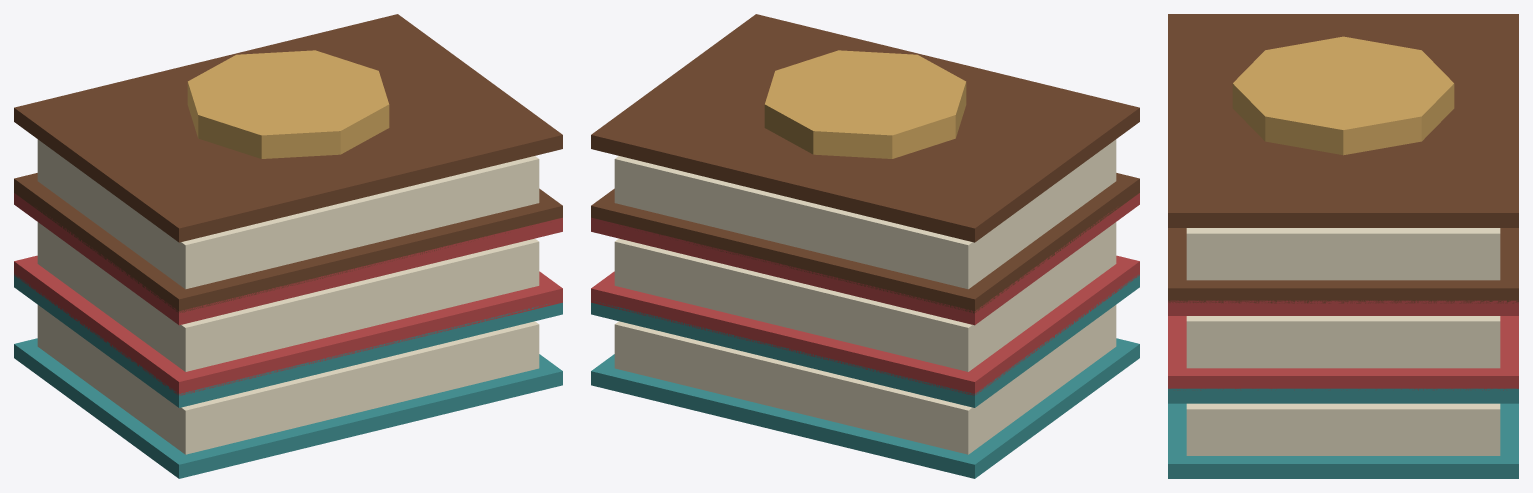
Rendered from books.glb.
3 renders of one model, left to right at view 1: azimuth 30°, elevation 25°; view 2: azimuth 150°, elevation 25°; view 3: azimuth 270°, elevation 25°, orthographic. The views are drawn at different scales.
Parts seen in each view (by area): view 1: Leather journal cover.005, Ivory pages, Ivory pages.002, Ivory pages.001, Brass paperweight, Leather journal cover, Leather journal cover.002, Leather journal cover.004, Leather journal cover.003, Leather journal cover.001; view 2: Leather journal cover.005, Ivory pages, Ivory pages.002, Ivory pages.001, Brass paperweight, Leather journal cover, Leather journal cover.002, Leather journal cover.004, Leather journal cover.003, Leather journal cover.001; view 3: Leather journal cover.005, Brass paperweight, Ivory pages, Ivory pages.001, Ivory pages.002, Leather journal cover, Leather journal cover.004, Leather journal cover.002, Leather journal cover.001, Leather journal cover.003.
Part boxes in pixels (x1,y1,x2,y2): Leather journal cover.005: [14, 14, 562, 242]; Ivory pages: [37, 305, 539, 454]; Ivory pages.002: [37, 139, 539, 289]; Ivory pages.001: [37, 222, 539, 371]; Brass paperweight: [187, 50, 389, 158]; Leather journal cover: [14, 338, 562, 478]; Leather journal cover.002: [14, 255, 562, 395]; Leather journal cover.004: [14, 173, 562, 312]; Leather journal cover.003: [14, 193, 562, 325]; Leather journal cover.001: [14, 273, 562, 407]; Leather journal cover.005: [591, 14, 1139, 242]; Ivory pages: [614, 305, 1116, 454]; Ivory pages.002: [614, 139, 1116, 289]; Ivory pages.001: [614, 222, 1116, 371]; Brass paperweight: [764, 50, 966, 158]; Leather journal cover: [591, 338, 1139, 478]; Leather journal cover.002: [591, 255, 1139, 395]; Leather journal cover.004: [591, 173, 1139, 313]; Leather journal cover.003: [591, 193, 1139, 325]; Leather journal cover.001: [591, 274, 1139, 407]; Leather journal cover.005: [1168, 14, 1518, 227]; Brass paperweight: [1232, 36, 1454, 155]; Ivory pages: [1186, 403, 1500, 455]; Ivory pages.001: [1186, 316, 1500, 368]; Ivory pages.002: [1186, 228, 1500, 280]; Leather journal cover: [1168, 403, 1518, 478]; Leather journal cover.004: [1168, 228, 1518, 303]; Leather journal cover.002: [1168, 316, 1518, 390]; Leather journal cover.001: [1168, 388, 1518, 403]; Leather journal cover.003: [1168, 300, 1518, 315].
Size of the model in its own units: 0.51 by 0.354 by 0.38.
